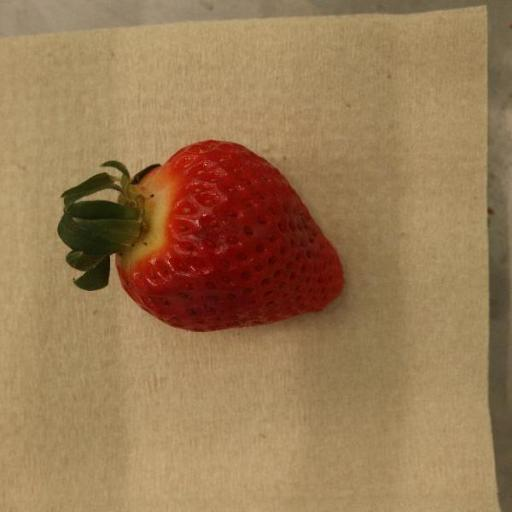Strawberry: (57, 140, 346, 333)
